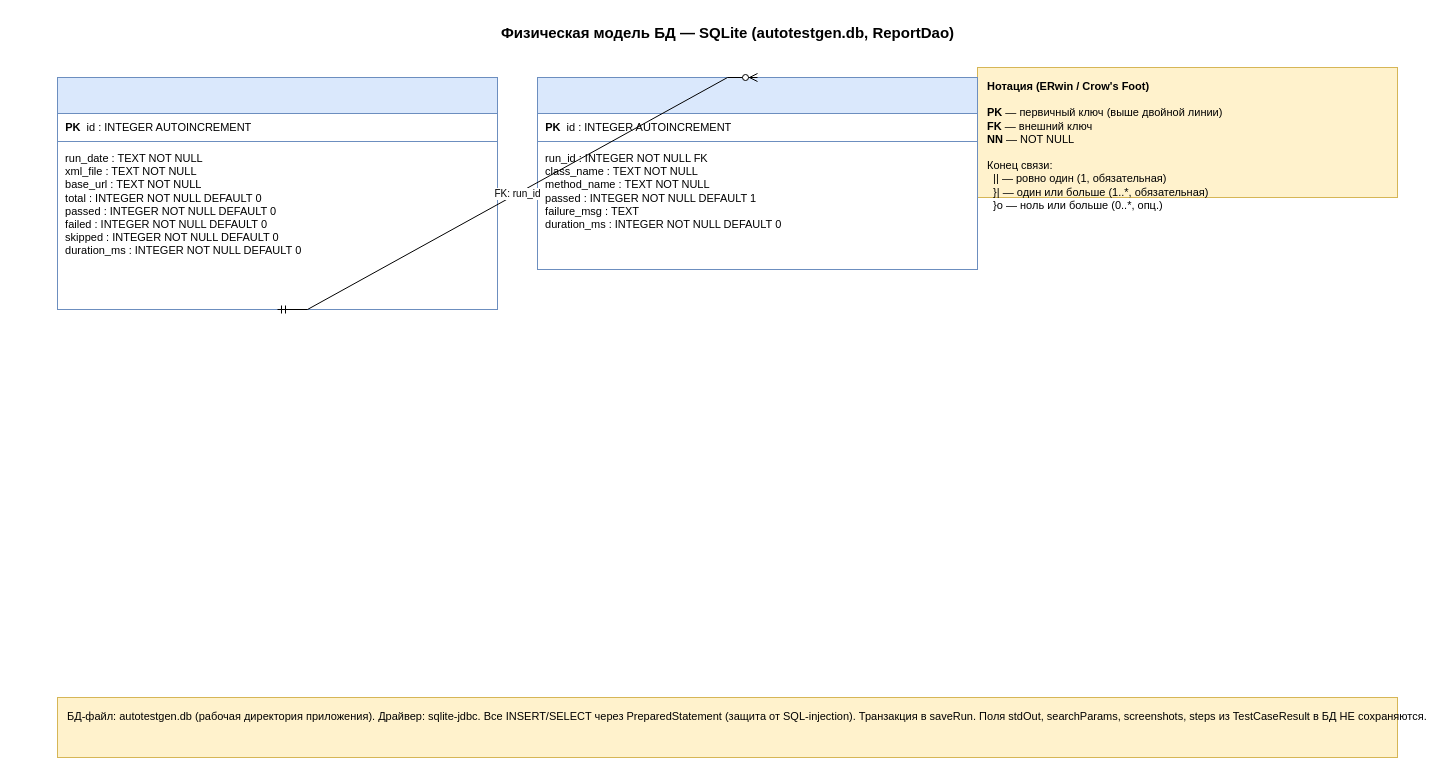
The diagram is 1454 pixels wide and 775 high, and some of its shapes have lost their labels. The box of each missing label's shape, as (x1, y1, x2, y2) in pixels:
test_case СУБД: SQLite • FK: run_id → test_run.id: (536, 76, 978, 114)
test_run СУБД: SQLite: (56, 76, 498, 114)
